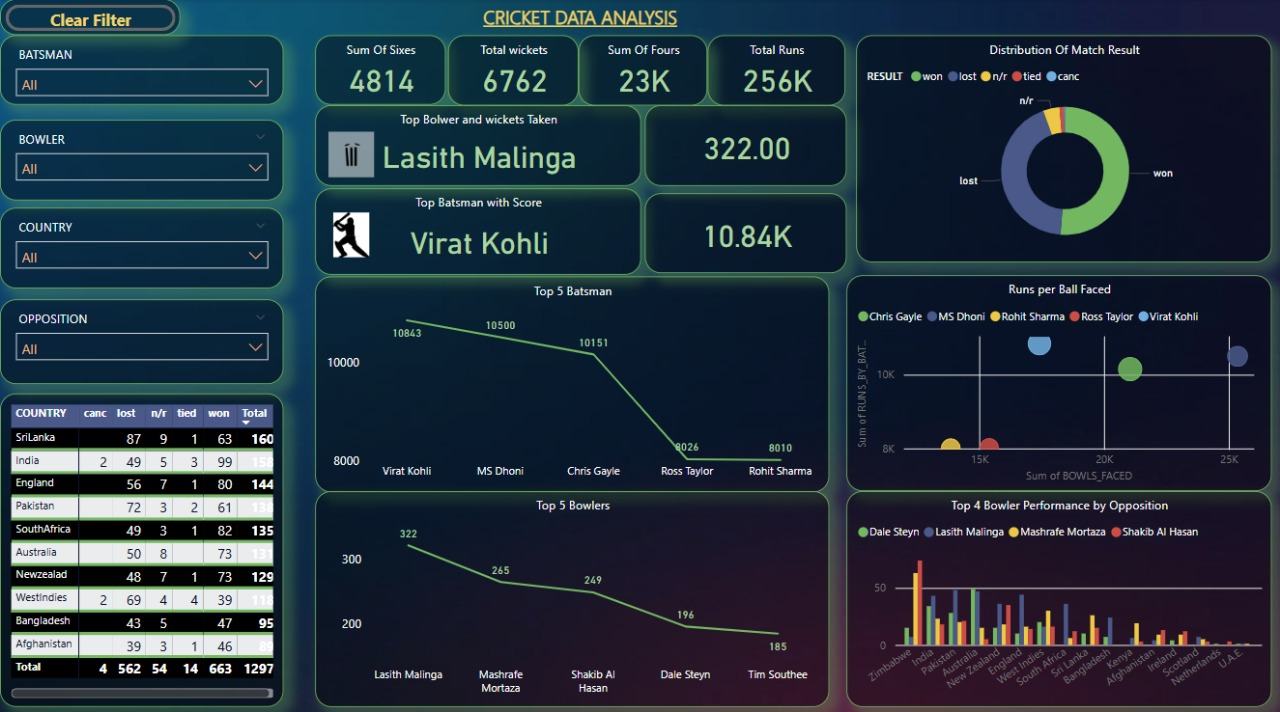

What the dashboard file says about the page in this screenshot:
{"tool":"powerbi","page":{"name":"Page 1","canvas":[1280,720],"ordinal":0},"visuals":[{"type":"lineChart","title":"Top 5 Batsman","fields":{"Category":["BATSMAN_DATA.BATSMAN"],"Y":["BATSMAN_DATA.RUNS_BY_BATSMAN"]},"box":[314.9,277.5,513.9,216],"z":0},{"type":"card","title":"Total Runs","fields":{"Values":["BATSMAN_DATA.RUNS_BY_BATSMAN"]},"box":[707.3,35.7,137.3,70],"z":1000},{"type":"lineChart","title":"Top 5 Bowlers","fields":{"Category":["BOWLER_DATA.BOWLER"],"Y":["BOWLER_DATA.WKTS_TAKEN"]},"box":[314.9,492.2,513.9,216],"z":2000},{"type":"card","title":"Sum Of Fours","fields":{"Values":["BATSMAN_DATA.FOURS"]},"box":[578.2,35.7,129.1,70],"z":3000},{"type":"donutChart","title":"Distribution Of Match Result","fields":{"Category":["ODI_MATCH_RESULT.RESULT"],"Y":["ODI_MATCH_RESULT.RESULT"]},"box":[855.4,36.2,415,226.8],"z":4000},{"type":"card","title":"Sum Of Sixes","fields":{"Values":["BATSMAN_DATA.SIXES"]},"box":[314.9,36.2,130.3,70],"z":5000},{"type":"card","title":"Total wickets","fields":{"Values":["BOWLER_DATA.WKTS_TAKEN"]},"box":[447.7,35.7,130.5,70],"z":6000},{"type":"card","title":"Top Batsman with Score","fields":{"Values":["TOP_SCORER.BATSMAN"]},"box":[314.5,189.5,325.5,86.5],"z":7000},{"type":"slicer","fields":{"Values":["BATSMAN_DATA.BATSMAN"]},"box":[0,36.2,283.5,70],"z":8000},{"type":"card","fields":{"Values":["TOP_SCORER.RUNS_BY_BATSMAN"]},"box":[644.1,193.6,201.9,79.7],"z":9000},{"type":"slicer","fields":{"Values":["BOWLER_DATA.BOWLER"]},"box":[0,120.6,283.5,80.8],"z":10000},{"type":"card","title":"Top Bolwer and wickets Taken","fields":{"Values":["MOST_WICKETS_TAKEN.BOWLER"]},"box":[314.9,106.2,325.7,80.8],"z":11000},{"type":"pivotTable","fields":{"Rows":["ODI_MATCH_RESULT.COUNTRY"],"Columns":["ODI_MATCH_RESULT.RESULT"],"Values":["ODI_MATCH_RESULT.RESULT"]},"box":[0,394.5,283.5,313.7],"z":12000},{"type":"card","fields":{"Values":["MOST_WICKETS_TAKEN.WKTS_TAKEN"]},"box":[644.1,105.8,201.9,81],"z":13000},{"type":"slicer","fields":{"Values":["ODI_MATCH_RESULT.COUNTRY"]},"box":[0,208.7,283.5,80.8],"z":14000},{"type":"slicer","fields":{"Values":["BATSMAN_DATA.OPPOSITION"]},"box":[0,300.4,283.5,84.5],"z":15000},{"type":"textbox","box":[317.3,0,524.8,36.2],"z":16000},{"type":"actionButton","box":[0,0,179.7,36.2],"z":17000},{"type":"image","box":[328,132.7,45.8,45.8],"z":18000},{"type":"image","box":[328,208.6,45.8,54.3],"z":19000},{"type":"scatterChart","title":"Runs per Ball Faced","fields":{"X":["BATSMAN_DATA.BOWLS_FACED"],"Y":["BATSMAN_DATA.RUNS_BY_BATSMAN"],"Series":["BATSMAN_DATA.BATSMAN"],"Size":["BATSMAN_DATA.FOURS"]},"box":[845.7,276.3,424.7,216],"z":20000},{"type":"clusteredColumnChart","title":"Top 4 Bowler Performance by Opposition","fields":{"Y":["BOWLER_DATA.WKTS_TAKEN"],"Category":["BOWLER_DATA.OPPOSITION"],"Series":["BOWLER_DATA.BOWLER"]},"box":[845.7,492.2,424.7,216],"z":21000}]}

Visuals, with their boxes in screenshot pixels (x1, y1, x2, y2), scaled from the page's 1280x720 canvas onto the 1280x712 screenshot:
"Top 5 Batsman" lineChart: [315,274,829,488]
"Total Runs" card: [707,35,845,105]
"Top 5 Bowlers" lineChart: [315,487,829,700]
"Sum Of Fours" card: [578,35,707,105]
"Distribution Of Match Result" donutChart: [855,36,1270,260]
"Sum Of Sixes" card: [315,36,445,105]
"Total wickets" card: [448,35,578,105]
"Top Batsman with Score" card: [314,187,640,273]
slicer - BATSMAN_DATA.BATSMAN: [0,36,284,105]
card - TOP_SCORER.RUNS_BY_BATSMAN: [644,191,846,270]
slicer - BOWLER_DATA.BOWLER: [0,119,284,199]
"Top Bolwer and wickets Taken" card: [315,105,641,185]
pivotTable - ODI_MATCH_RESULT.COUNTRY x ODI_MATCH_RESULT.RESULT: [0,390,284,700]
card - MOST_WICKETS_TAKEN.WKTS_TAKEN: [644,105,846,185]
slicer - ODI_MATCH_RESULT.COUNTRY: [0,206,284,286]
slicer - BATSMAN_DATA.OPPOSITION: [0,297,284,381]
textbox: [317,0,842,36]
actionButton: [0,0,180,36]
image: [328,131,374,177]
image: [328,206,374,260]
"Runs per Ball Faced" scatterChart: [846,273,1270,487]
"Top 4 Bowler Performance by Opposition" clusteredColumnChart: [846,487,1270,700]
